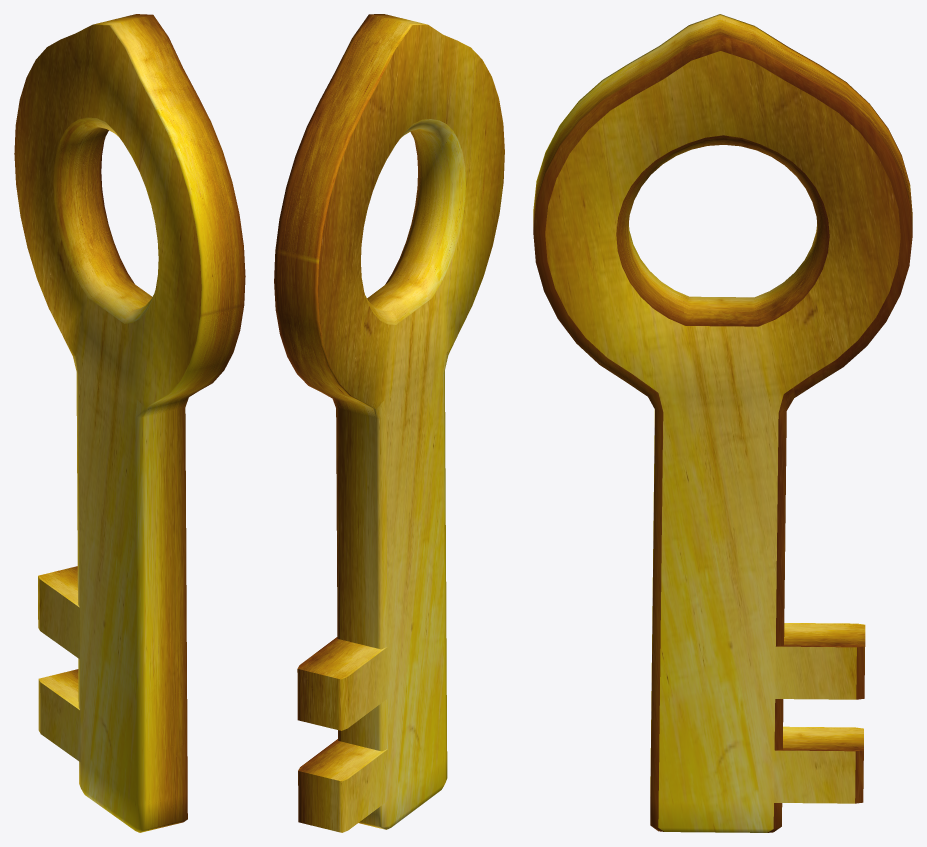
Rendered from Key.FBX.
The picture shows the model from 3 angles, left to right: view 1: azimuth 30°, elevation 25°; view 2: azimuth 150°, elevation 25°; view 3: azimuth 270°, elevation 25°; orthographic projection.
Visible parts, largest first — view 1: Cylinder001; view 2: Cylinder001; view 3: Cylinder001.
Part boxes in pixels (box(x1,y1,x2,y2)): Cylinder001: box(14, 14, 245, 832); Cylinder001: box(274, 14, 504, 832); Cylinder001: box(533, 14, 912, 832).
Size of the model in its own units: 2.92 by 45.07 by 19.45.
1 material, 1 textured.
